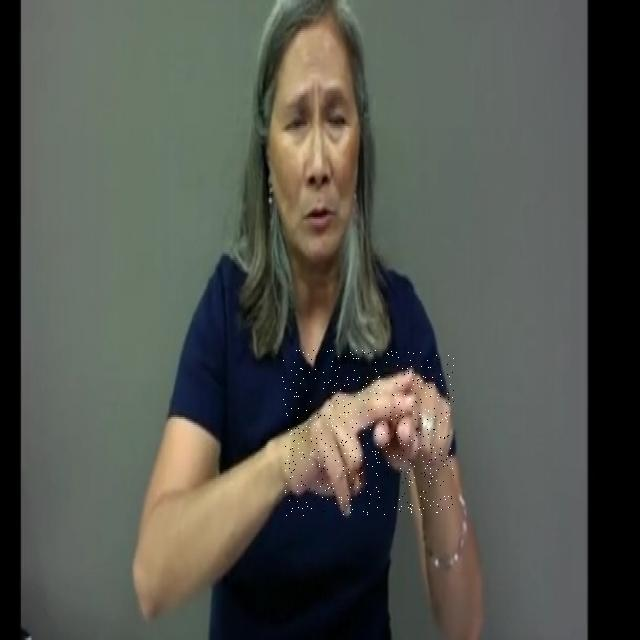salt: (282, 350, 454, 516)
